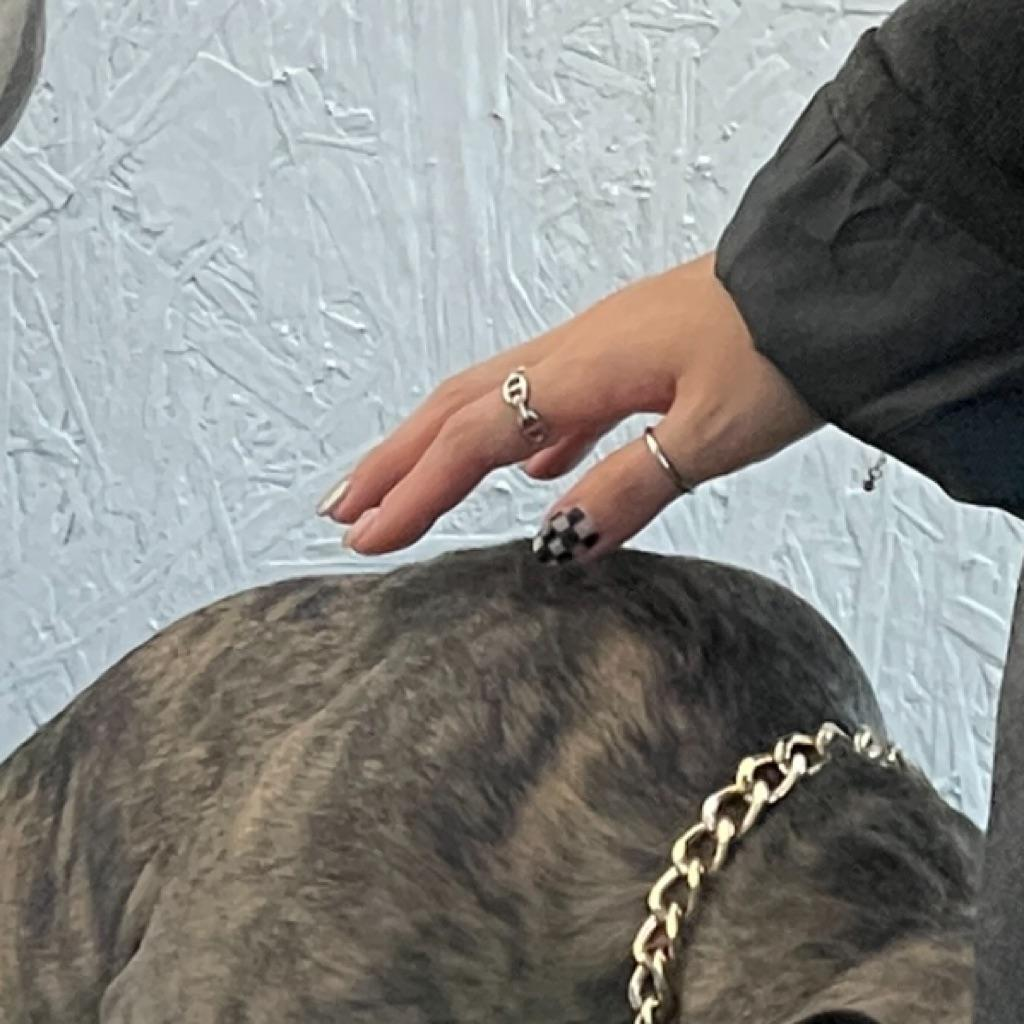nail: (315, 473, 351, 516)
